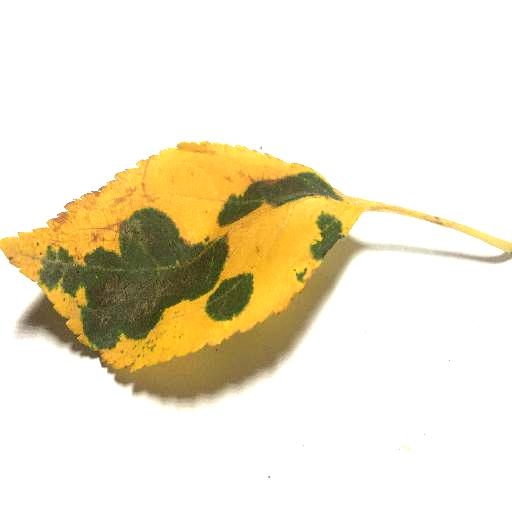Brown_Spot: (50, 232, 216, 324), (218, 185, 301, 215)
